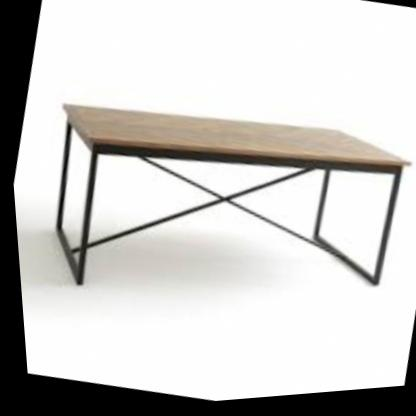Table: (13, 59, 416, 365)
